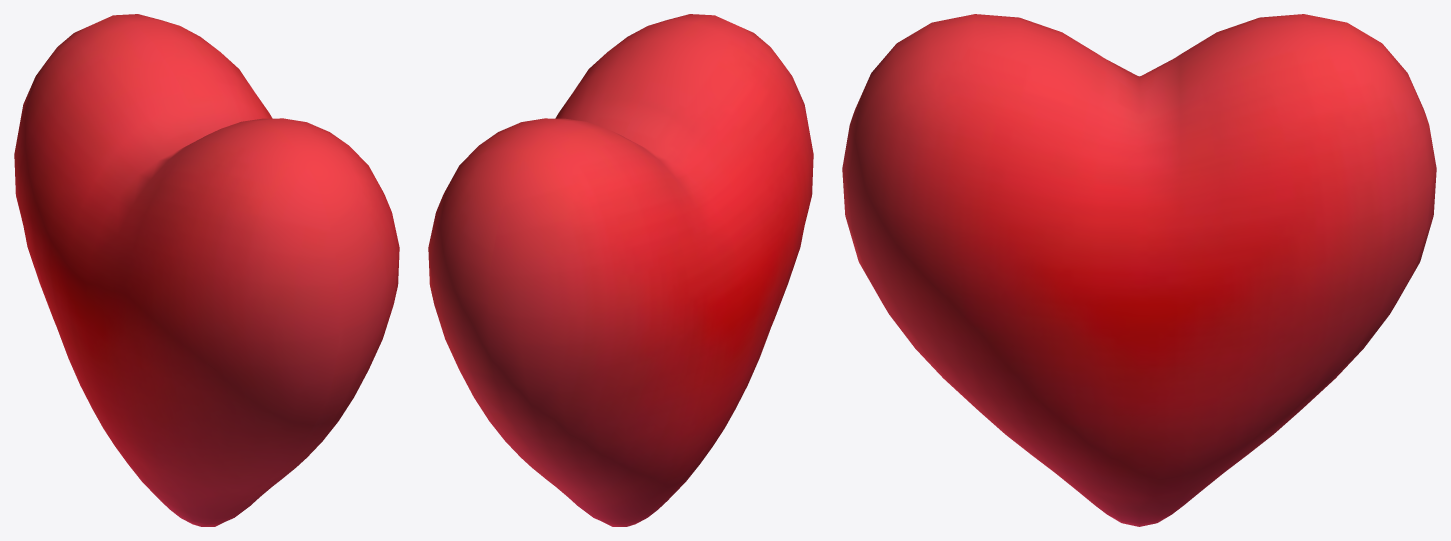
File: SM_Heart_f58c41.glb
The picture shows the model from 3 angles, left to right: view 1: azimuth 30°, elevation 25°; view 2: azimuth 150°, elevation 25°; view 3: azimuth 270°, elevation 25°; orthographic projection. The views are drawn at different scales.
Bounding box in the file's own units: 0.3094 × 0.5465 × 0.5881.
1 material, 1 textured.
